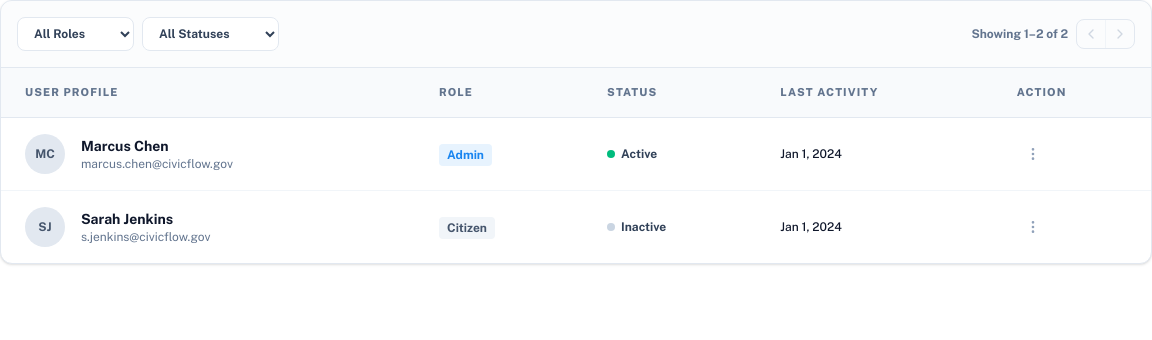
it: UsersTable row actions › opens a dropdown with menu items when action button is clicked
The image size is (1152, 340).
Click the button named "User actions" in the row of "marcus.chen@civicflow.gov" at (1033, 154), box [1017,138,1049,170]
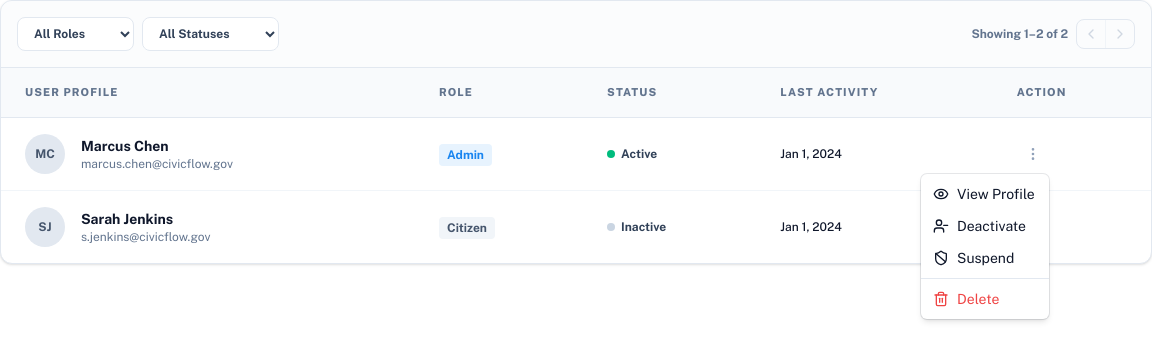
Expected: the menu item "View Profile" is shown, [933,186,1035,202]
Expected: the menu item "Delete" is shown, [933,291,999,307]
